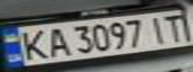0: (90, 20, 112, 52)
3: (69, 22, 93, 55)
7: (124, 16, 148, 47)
9: (109, 19, 130, 49)
A: (42, 25, 72, 58)
I: (145, 14, 172, 44)
K: (15, 27, 51, 62)
T: (160, 11, 190, 42)
